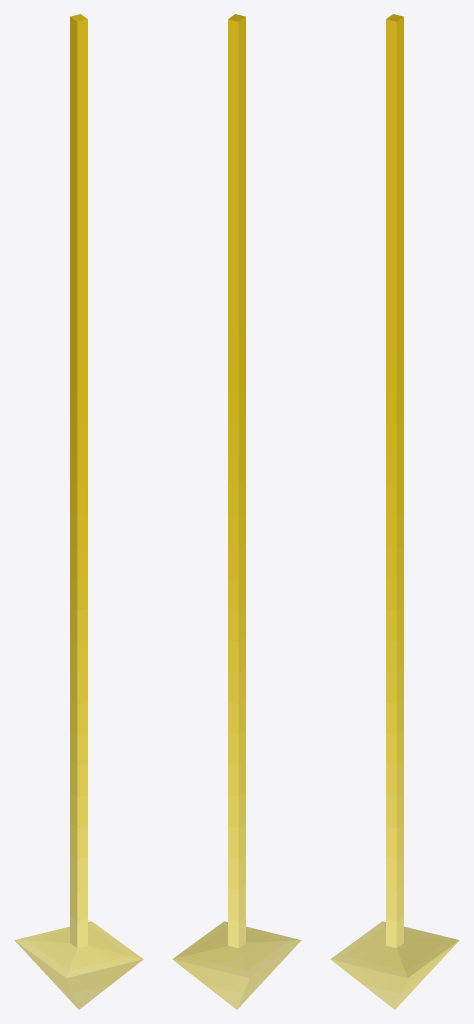
3 renders of one model, left to right at view 1: azimuth 30°, elevation 25°; view 2: azimuth 150°, elevation 25°; view 3: azimuth 330°, elevation 25°, orthographic.
Parts seen in each view (by area): view 1: Box01; view 2: Box01; view 3: Box01.
Boxes of the visible parts, x1,y1,x2,y2 form: Box01: (14,14,143,1009); Box01: (172,14,301,1009); Box01: (330,14,459,1009).
Size of the model in its own units: 937 by 11453 by 1089.
Materials: 1 (1 with a texture image).
